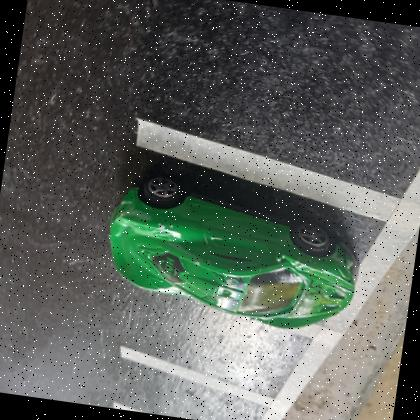Car: (109, 172, 359, 328)
